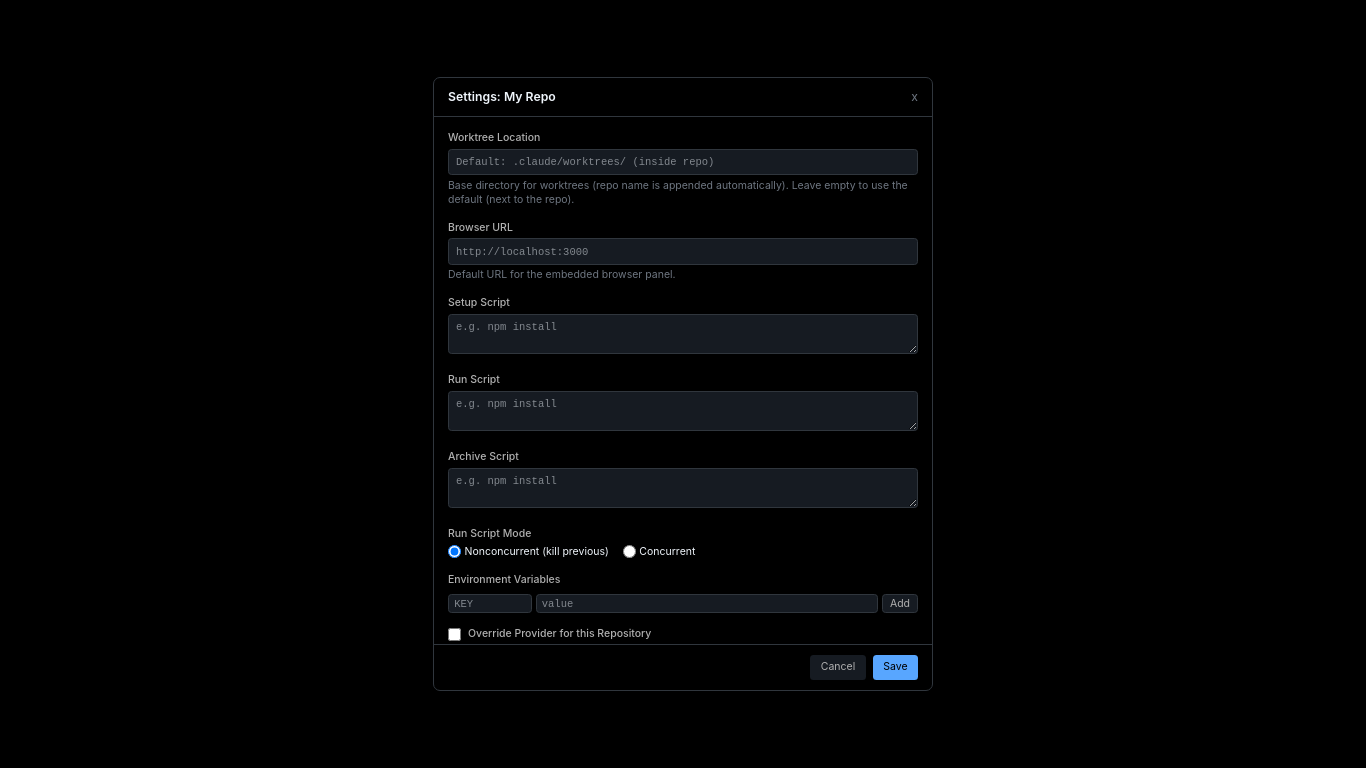
Test: RepoSettingsPanel › shows error when save fails
Click the button "Save" at [895, 667], box [873, 655, 918, 680]
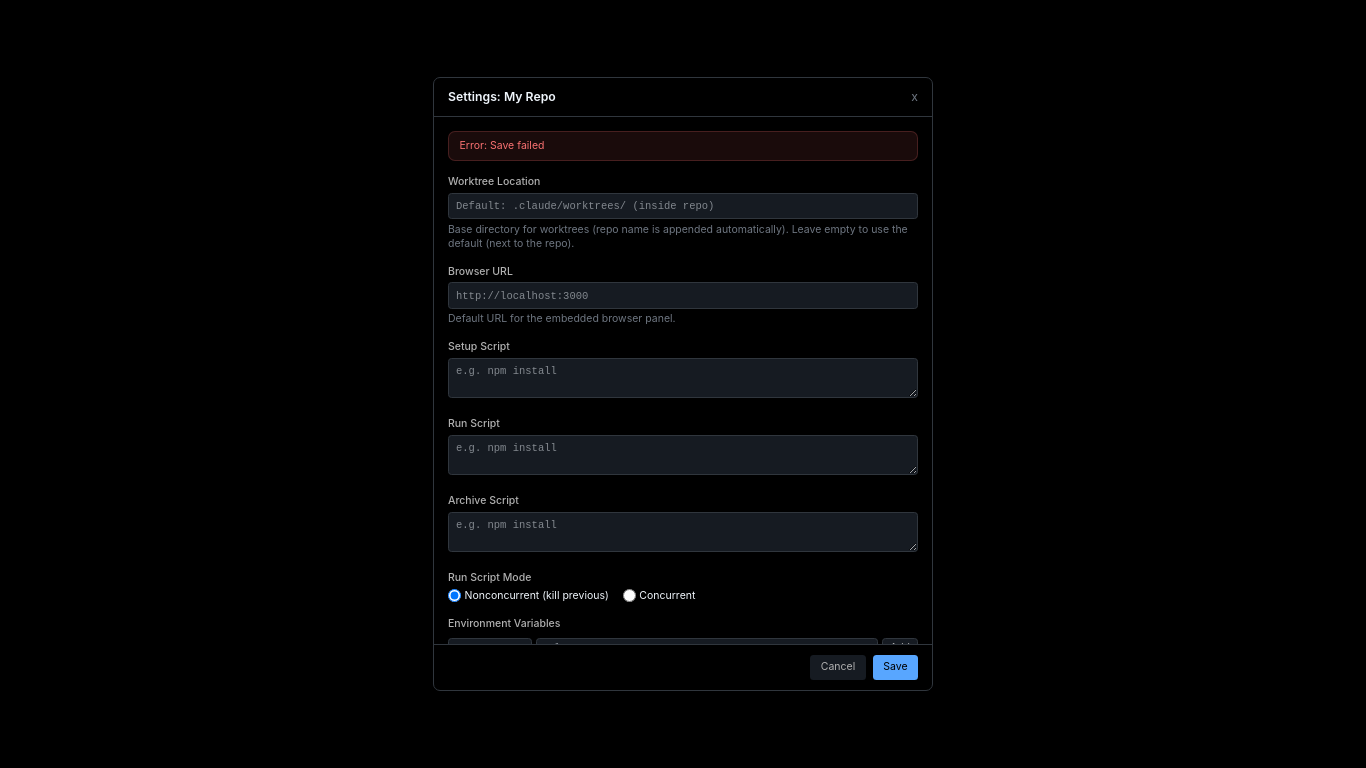
Now the text "Error: Save failed" is shown, box [448, 131, 918, 161]
